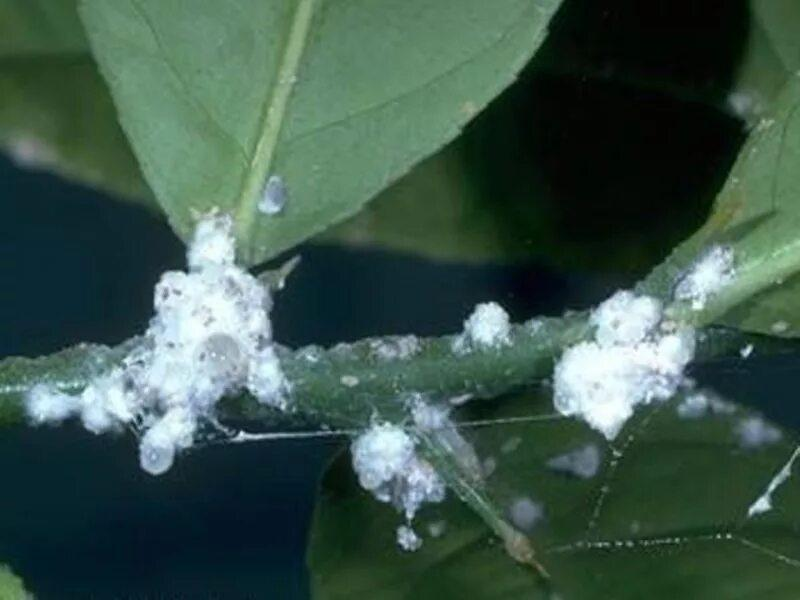pseudococcidae: (19, 198, 775, 566)
